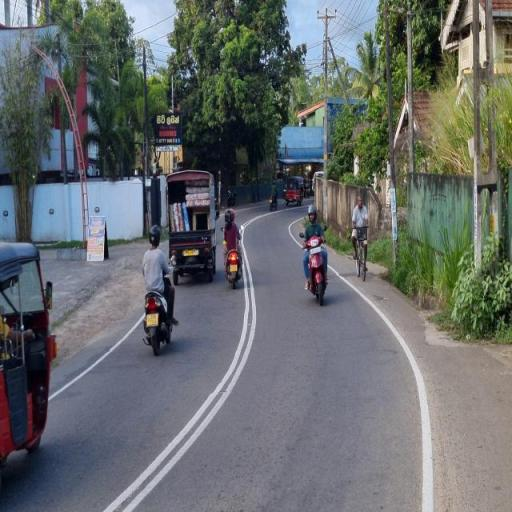double_white_line: (106, 266, 259, 510), (50, 318, 140, 403)
